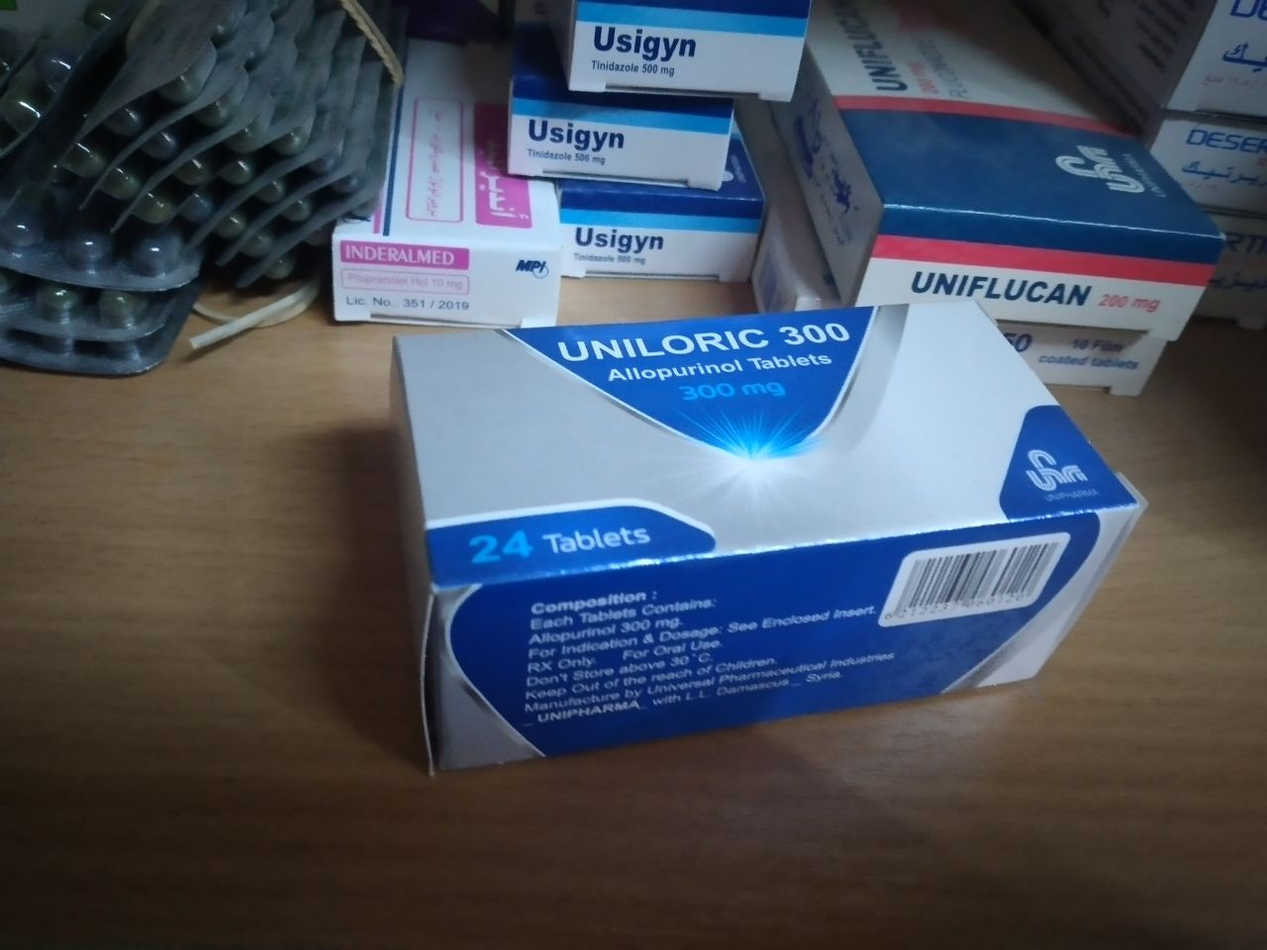Medicine: (329, 282, 1143, 782), (802, 7, 1245, 356), (317, 7, 549, 324), (495, 77, 740, 193), (559, 7, 814, 99), (559, 203, 777, 280)
